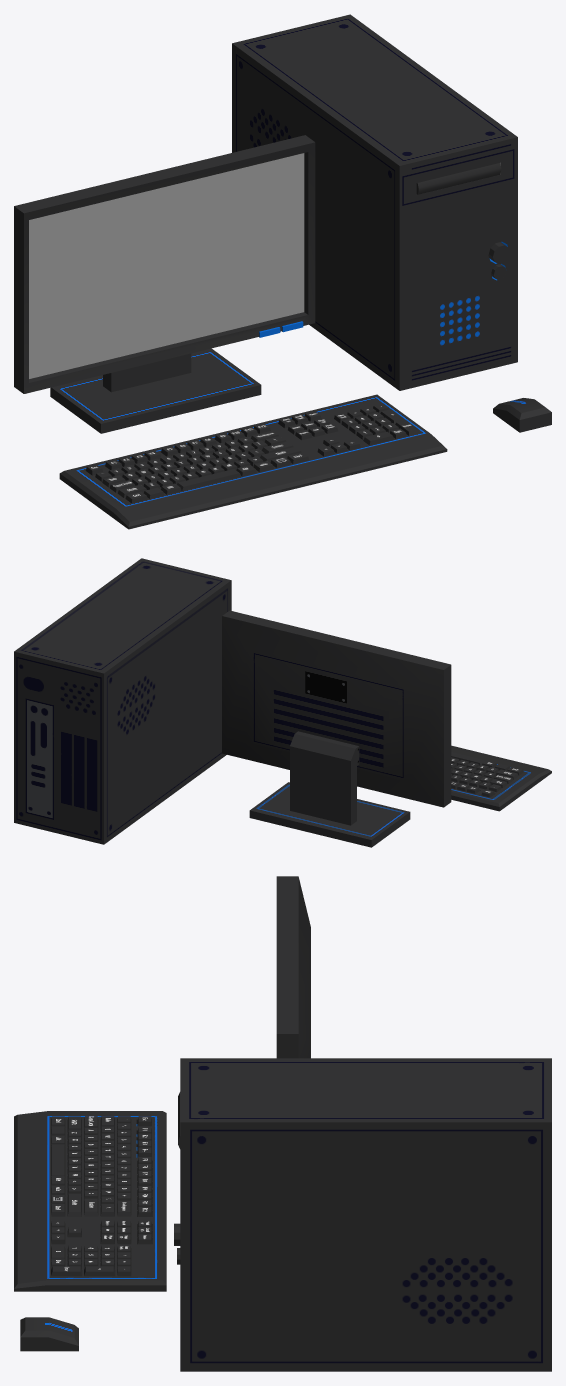
Rendered from Computer.gltf.
3 views of the same model, one above another, from view 1: azimuth 30°, elevation 25°; view 2: azimuth 150°, elevation 25°; view 3: azimuth 270°, elevation 25° (orthographic). The views are drawn at different scales.
Visible parts, largest first — view 1: System_unit, Monitor, Keyboard1, Comp_Mouse, Drive; view 2: System_unit, Monitor, Keyboard1; view 3: System_unit, Keyboard1, Monitor, Comp_Mouse.
Part boxes in pixels (x1,y1,x2,y2): System_unit: (232, 14, 517, 390); Monitor: (14, 135, 315, 433); Keyboard1: (59, 394, 447, 529); Comp_Mouse: (493, 398, 551, 432); Drive: (416, 163, 501, 194); System_unit: (14, 558, 231, 844); Monitor: (222, 610, 451, 847); Keyboard1: (451, 745, 551, 811); System_unit: (174, 1058, 551, 1371); Keyboard1: (14, 1111, 166, 1291); Monitor: (276, 876, 310, 1058); Comp_Mouse: (20, 1317, 78, 1351).
Bounding box in the file's own units: 605 × 284 × 547.
6 materials, 5 textured.
